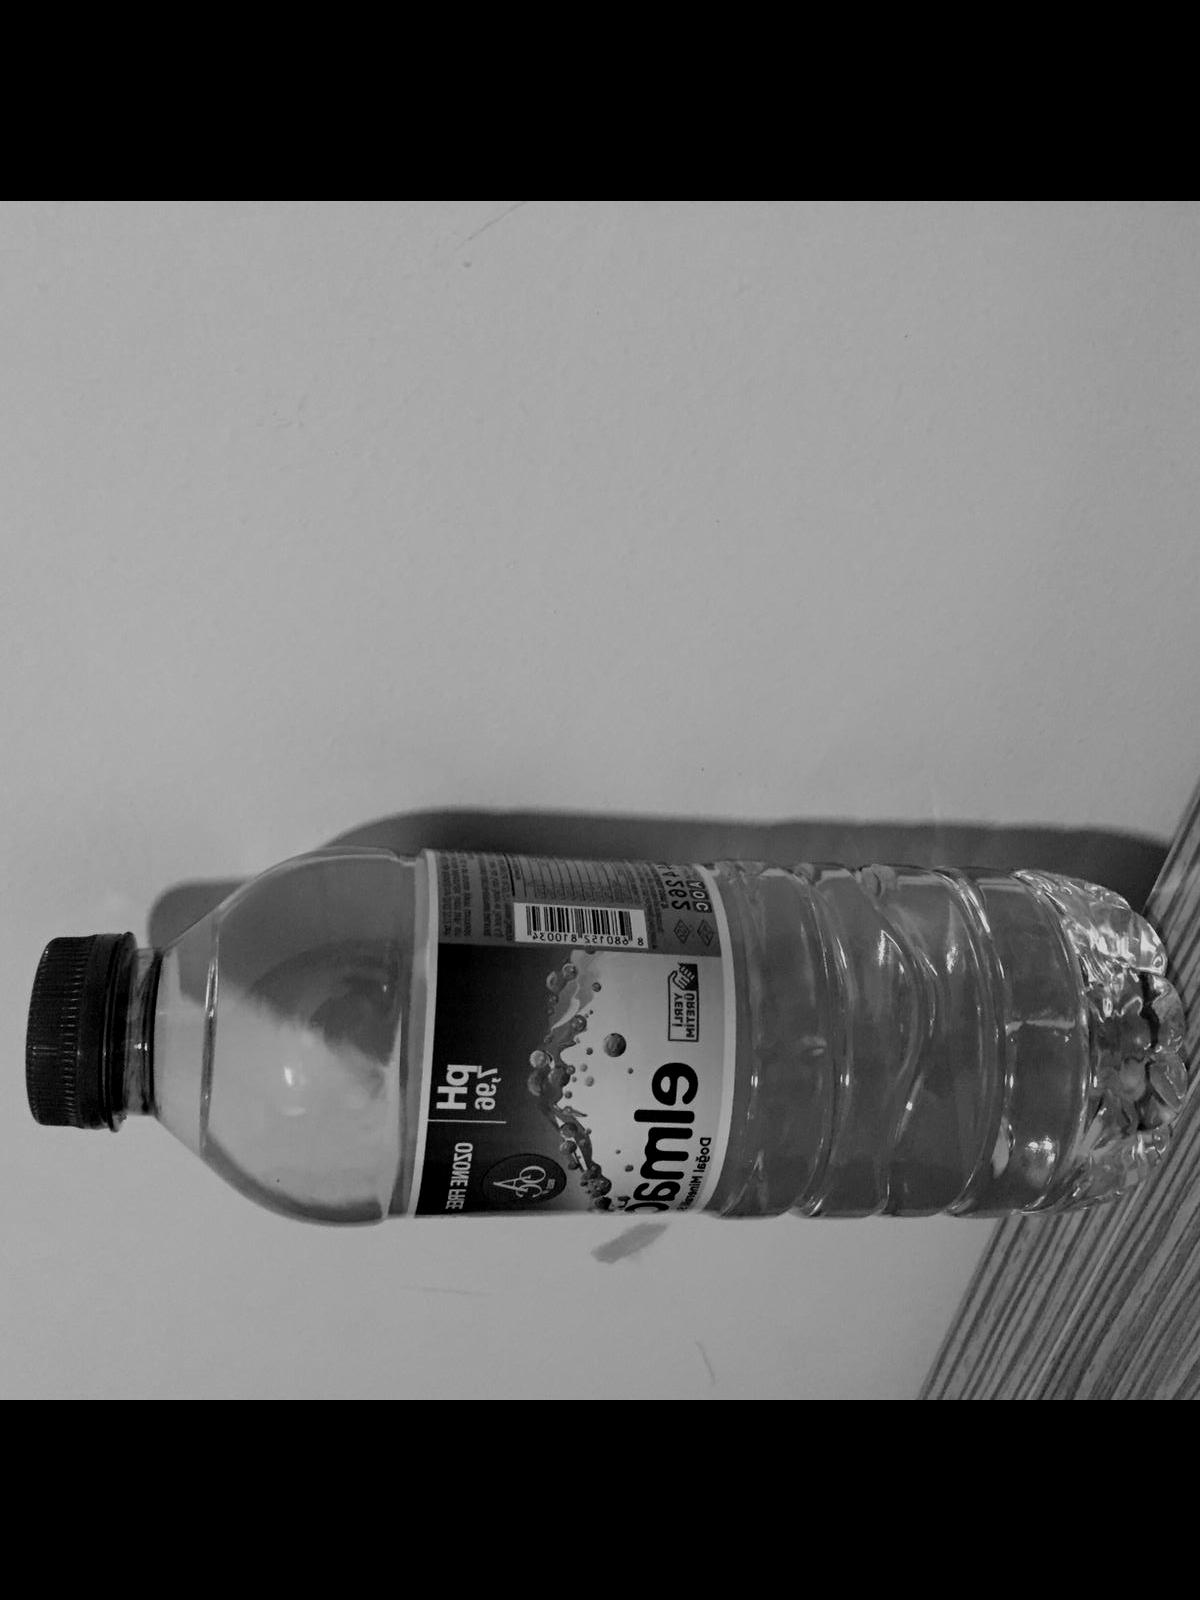bottle: (18, 838, 1180, 1228)
